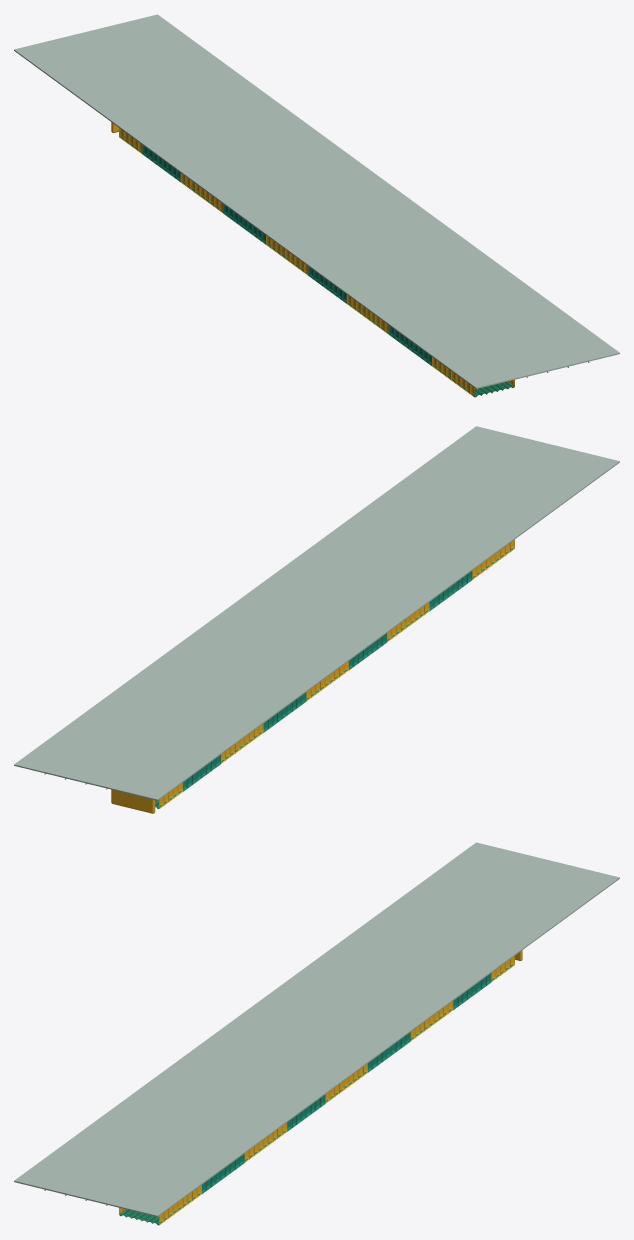
File: jumping_castle.glb
3 renders of one model, top to bottom at view 1: azimuth 30°, elevation 25°; view 2: azimuth 150°, elevation 25°; view 3: azimuth 330°, elevation 25°, orthographic.
Parts seen in each view (by area): view 1: JCastle_Venue_Roof, EdgeBolster_-1; view 2: JCastle_Venue_Roof, JCastle_End_Wall, EdgeBolster_-1; view 3: JCastle_Venue_Roof, EdgeBolster_1.
Boxes of the visible parts, x1,y1,x2,y2 form: JCastle_Venue_Roof: [14, 14, 619, 388]; EdgeBolster_-1: [120, 136, 476, 397]; JCastle_Venue_Roof: [14, 426, 619, 800]; JCastle_End_Wall: [111, 789, 155, 813]; EdgeBolster_-1: [157, 548, 513, 808]; JCastle_Venue_Roof: [14, 842, 619, 1216]; EdgeBolster_1: [157, 964, 513, 1225].
Size of the model in its own units: 14 by 5.75 by 78.
